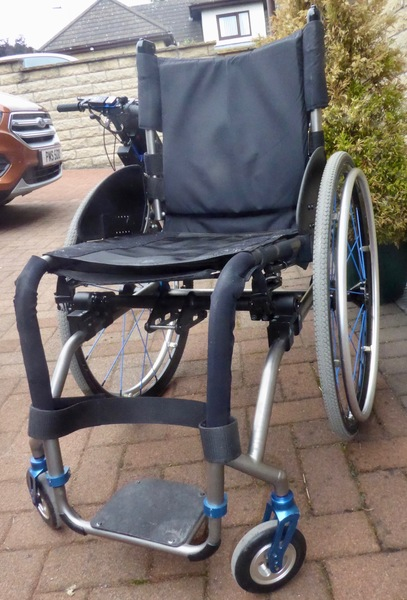wheelchair: (22, 40, 375, 588)
